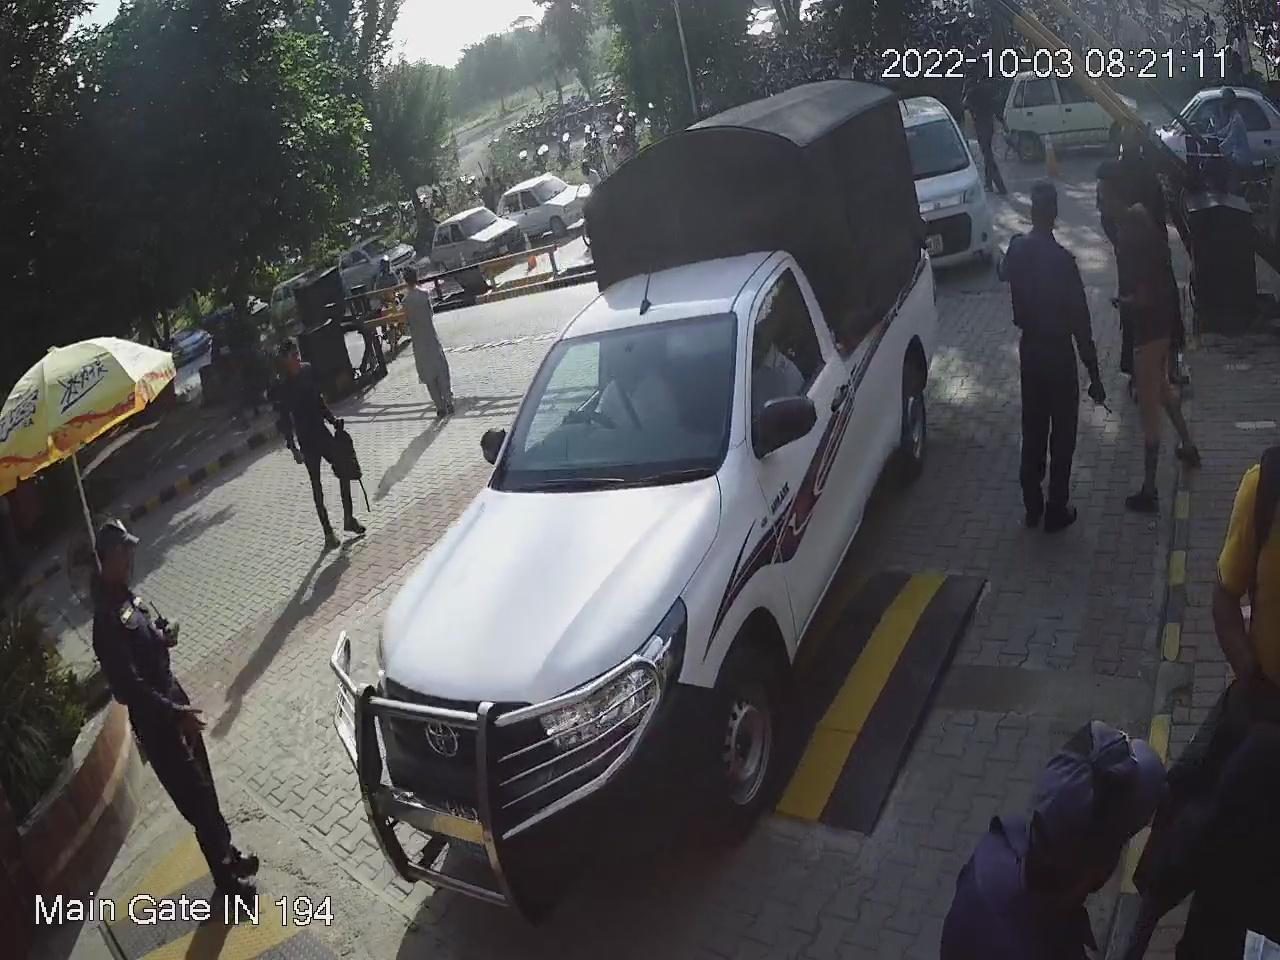windshield: (486, 310, 746, 492)
